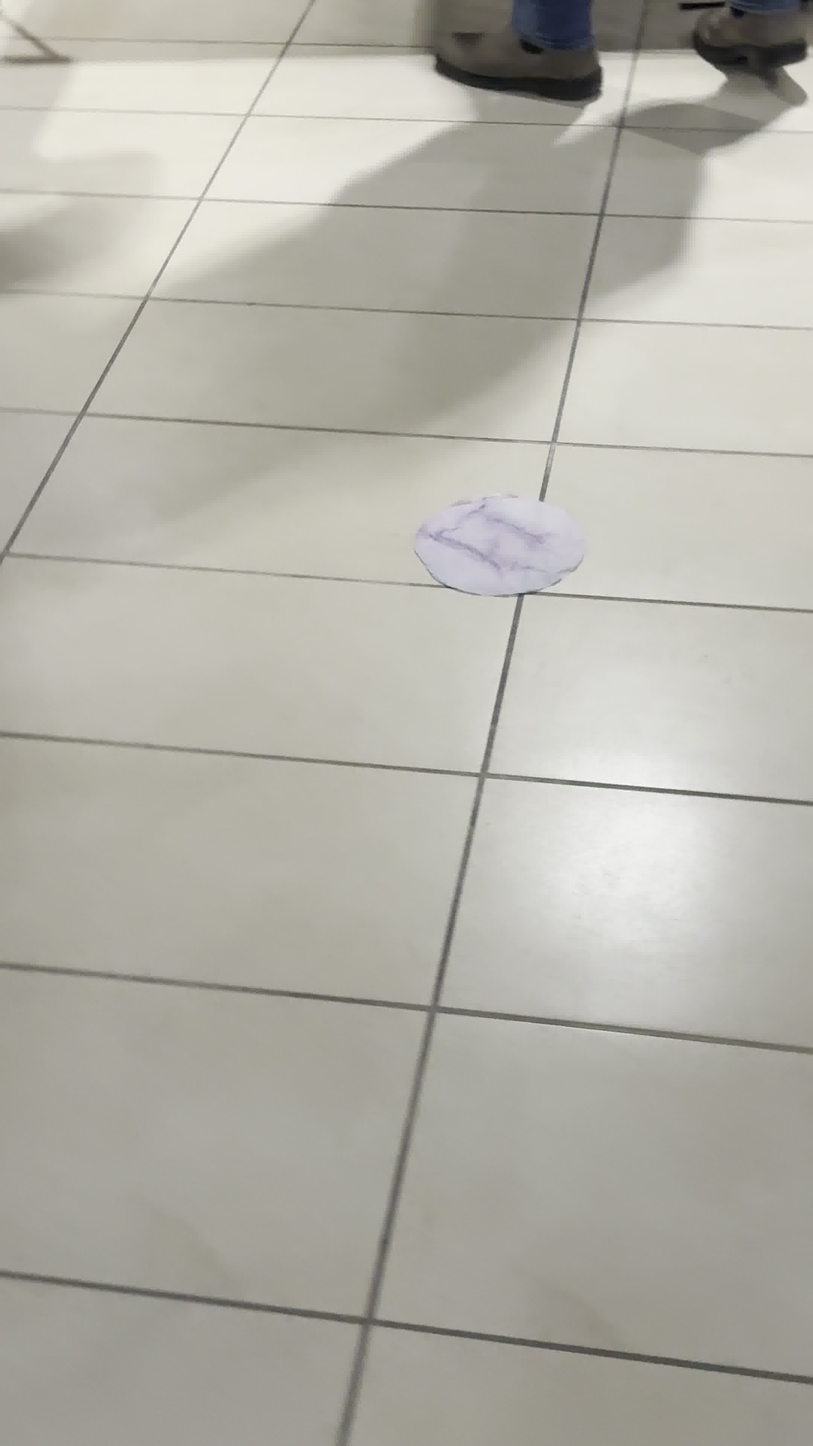Target: (411, 486, 586, 599)
